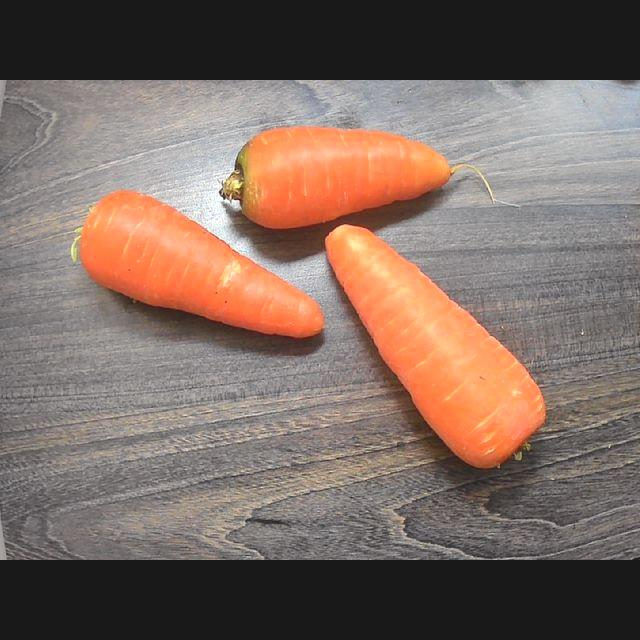zanahoria: (325, 225, 545, 467), (72, 190, 323, 337), (219, 126, 496, 228)
